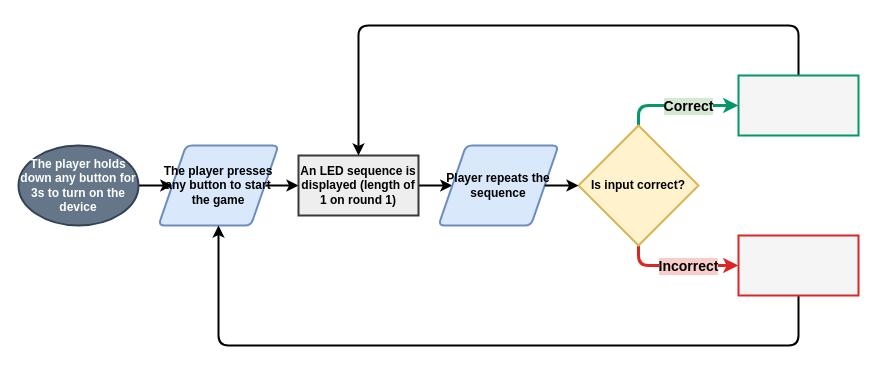
This 876x371 diagram has some shape labels left out. Each missing label, with the centre of its shape:
The last sequence is displayed to show the score: the point at 798,265
The sequence is extended by 1: the point at 798,105
